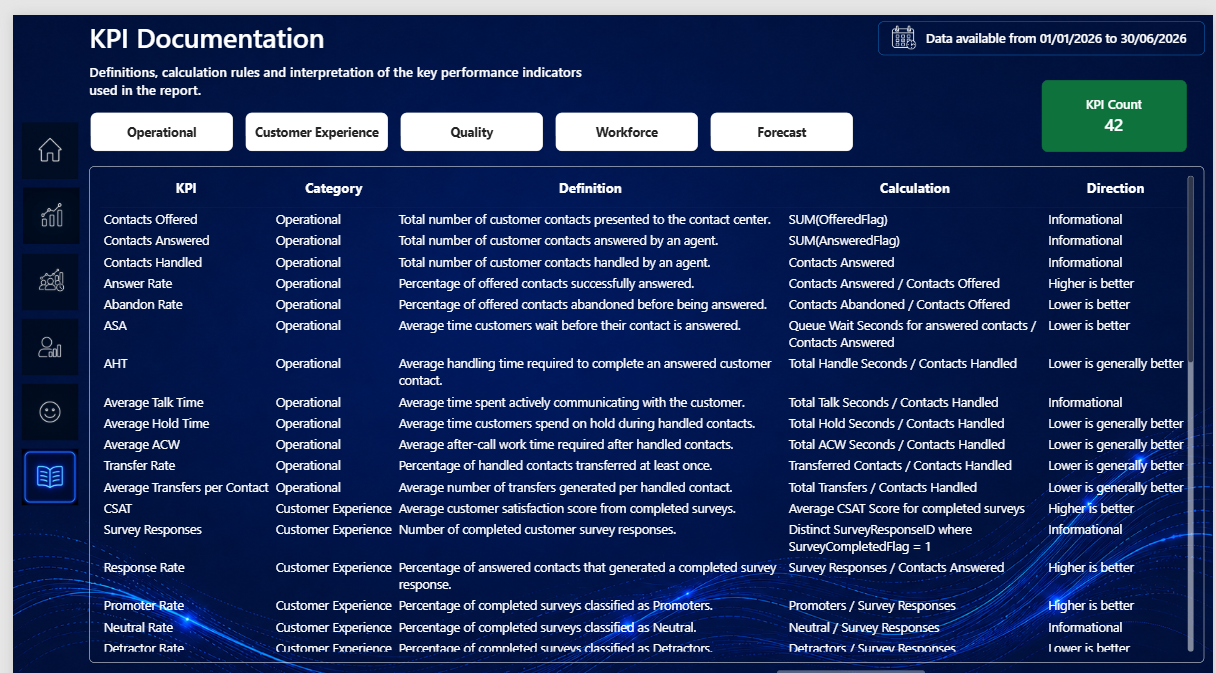

The dashboard page shown, as its layout file describes it:
{"tool":"powerbi","page":{"name":"KPI Documentation","canvas":[1280,720],"ordinal":5},"visuals":[{"type":"image","box":[18.8,152.6,60,60],"z":0,"group":"g1"},{"type":"shape","box":[342,478,924.3,225],"z":0},{"type":"shape","box":[0,0,94.5,720],"z":1000},{"type":"image","box":[18.8,224.6,60,60],"z":1000,"group":"g1"},{"type":"textbox","box":[108.6,9.7,386.1,55.5],"z":2000},{"type":"image","box":[18.8,296.5,60,60],"z":2000,"group":"g1"},{"type":"image","box":[0,0,97.5,90.2],"z":3000},{"type":"image","box":[18.8,368.5,60,60],"z":3000,"group":"g1"},{"type":"textbox","box":[108.8,60,631.2,33.8],"z":4000},{"type":"image","box":[18.8,440.4,60,60],"z":4000,"group":"g1"},{"type":"slicer","fields":{"Values":["KPI Selector.KPI Category"]},"box":[514.9,103,244.1,64.8],"z":5000},{"type":"image","box":[19.1,512.4,59.8,59.8],"z":5000,"group":"g1"},{"type":"slicer","fields":{"Values":["KPI Selector.KPI"]},"box":[778.1,103,489.5,64.8],"z":6000},{"type":"cardVisual","fields":{"Data":["Mes mesures.Doc Internal Measure"]},"box":[340.7,184.3,428.4,78.8],"z":7000},{"type":"cardVisual","fields":{"Data":["Mes mesures.Doc Source Tables"]},"box":[778.1,183.1,322.9,80.1],"z":8000},{"type":"cardVisual","fields":{"Data":["Mes mesures.Documentation KPI Count"]},"box":[1109.9,183.1,157.6,80.1],"z":9000},{"type":"cardVisual","title":"Business Definition","fields":{"Data":["Mes mesures.Doc Business Definition"]},"box":[341.2,272.3,469.5,194.8],"z":10000},{"type":"cardVisual","title":"Calculation Scope","fields":{"Data":["Mes mesures.Doc Calculation Scope"]},"box":[820.4,272.3,446.5,194.8],"z":11000},{"type":"tableEx","fields":{"Values":["KPI Documentation.KPI"]},"box":[108.1,103,221.2,600.1],"z":12000},{"type":"textbox","box":[349,486,166.5,40.7],"z":13000},{"type":"shape","box":[359.8,531.4,881.1,150],"z":14000},{"type":"shape","box":[359.8,531.4,15.3,150],"z":15000},{"type":"cardVisual","fields":{"Data":["Mes mesures.Doc DAX Formula Header"]},"box":[389,537.8,448.8,40.7],"z":16000},{"type":"textbox","box":[389,578.5,836.6,95.4],"z":17000},{"type":"actionButton","box":[351.4,116.7,151.3,39.4],"z":18000},{"type":"group","id":"g1","title":"Groupe 1","box":[18.8,152.6,60,419.5],"z":18001}]}

Visuals, with their boxes in screenshot pixels (x1, y1, x2, y2), scaled from the page's 1280x720 canvas onto the 1216x673 screenshot:
image: 18,143,75,199
shape: 325,447,1203,657
shape: 0,0,90,672
image: 18,210,75,266
textbox: 103,9,470,61
image: 18,277,75,333
image: 0,0,93,84
image: 18,344,75,401
textbox: 103,56,703,88
image: 18,412,75,468
slicer - KPI Selector.KPI Category: 489,96,721,157
image: 18,479,75,535
slicer - KPI Selector.KPI: 739,96,1204,157
cardVisual - Mes mesures.Doc Internal Measure: 324,172,731,246
cardVisual - Mes mesures.Doc Source Tables: 739,171,1046,246
cardVisual - Mes mesures.Documentation KPI Count: 1054,171,1204,246
"Business Definition" cardVisual: 324,255,770,437
"Calculation Scope" cardVisual: 779,255,1204,437
tableEx - KPI Documentation.KPI: 103,96,313,657
textbox: 332,454,490,492
shape: 342,497,1179,637
shape: 342,497,356,637
cardVisual - Mes mesures.Doc DAX Formula Header: 370,503,796,541
textbox: 370,541,1164,630
actionButton: 334,109,478,146
"Groupe 1" group: 18,143,75,535
